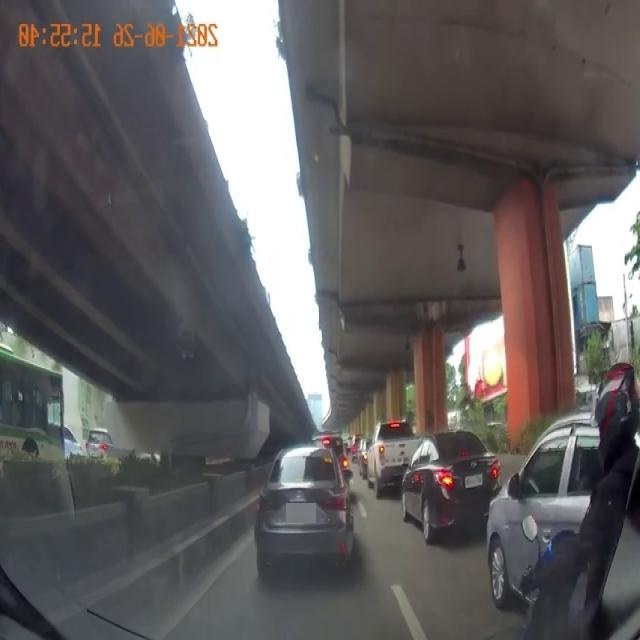bus: (0, 361, 68, 491)
car: (483, 413, 628, 599), (251, 439, 352, 587), (390, 434, 503, 540), (363, 408, 428, 495)
motorcycle: (508, 370, 640, 636)
